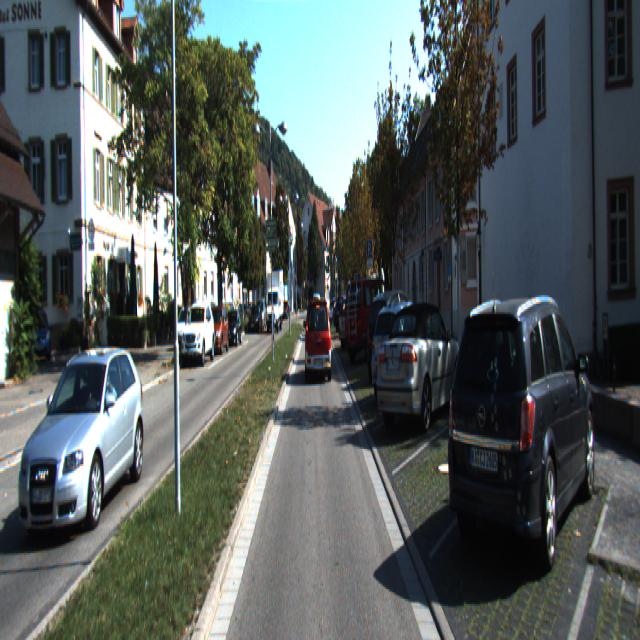Car: (446, 284, 600, 586), (20, 340, 149, 534), (375, 297, 464, 432), (370, 296, 440, 404), (366, 288, 424, 383), (343, 276, 396, 362), (306, 299, 332, 382), (338, 296, 378, 349), (182, 302, 215, 364), (205, 306, 230, 356), (29, 308, 52, 359), (265, 272, 284, 332), (332, 297, 360, 333), (174, 305, 194, 350), (223, 312, 242, 348), (248, 304, 264, 333)
